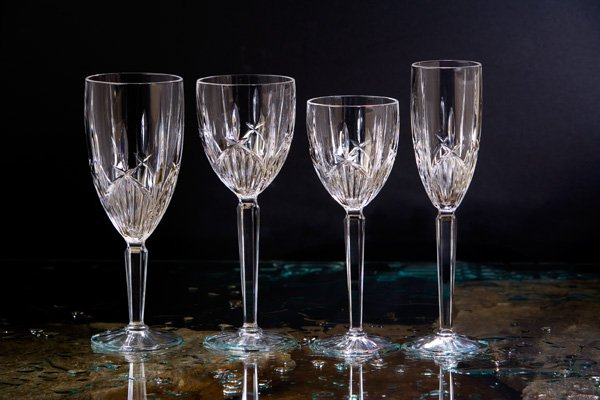Nonrec_Glass: (67, 56, 201, 363), (193, 57, 304, 366), (397, 50, 500, 367), (302, 79, 404, 370)
